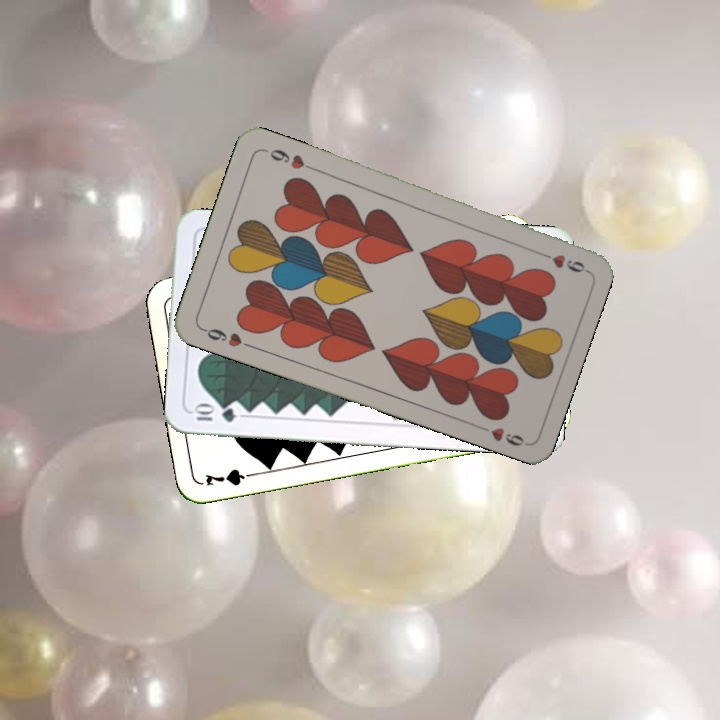G10: (189, 402, 239, 425)
G7: (201, 464, 260, 488)
H9: (531, 246, 588, 275), (197, 323, 254, 351)
